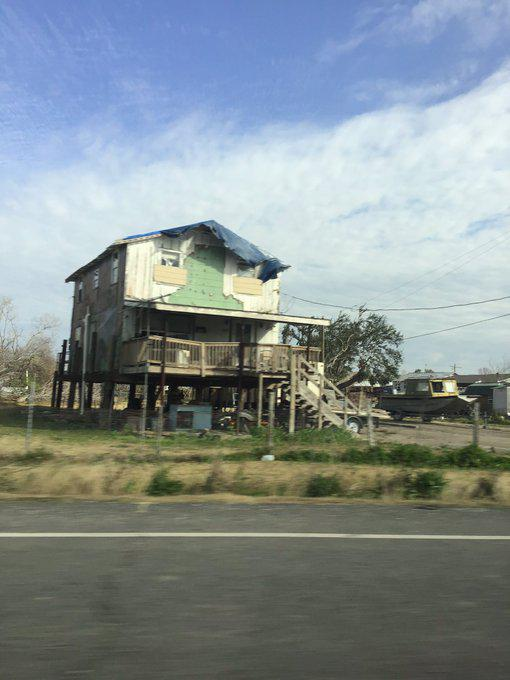minor: (48, 222, 379, 460)
